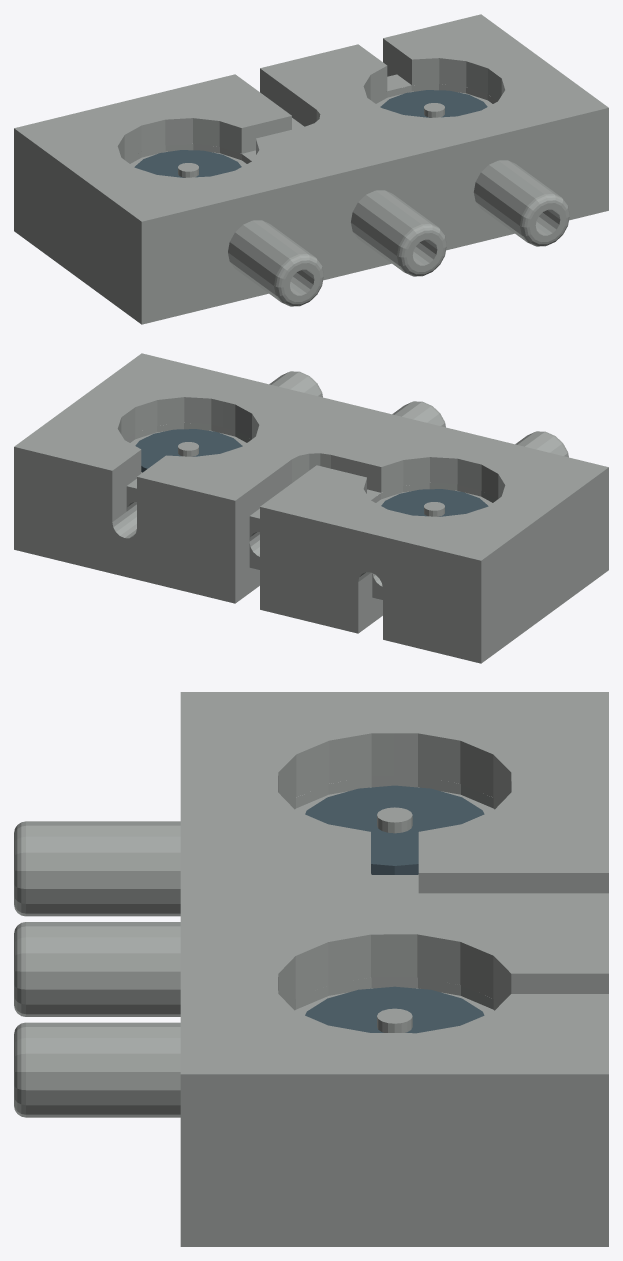
3 views of the same model, one above another, from view 1: azimuth 30°, elevation 25°; view 2: azimuth 150°, elevation 25°; view 3: azimuth 270°, elevation 25° (orthographic). The views are drawn at different scales.
Parts seen in each view (by area): view 1: world; view 2: world; view 3: world.
Boxes of the visible parts, left/top/right/bottom form: world: left=14, top=14, right=608, bottom=324; world: left=14, top=353, right=608, bottom=663; world: left=14, top=692, right=608, bottom=1246.
Bounding box in the file's own units: 0.0304 × 0.0064 × 0.02.
